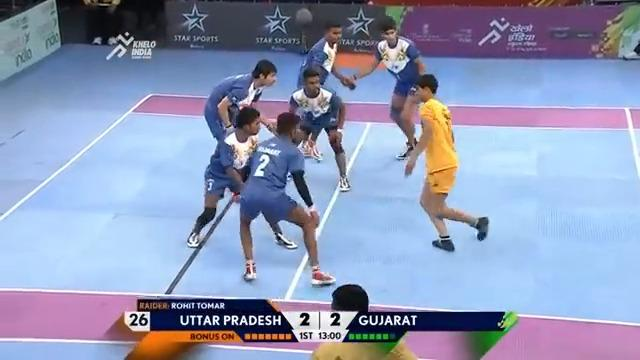Player: (237, 111, 336, 286), (186, 105, 298, 250), (345, 20, 426, 160), (294, 21, 354, 160), (287, 67, 352, 192), (203, 58, 277, 143), (296, 21, 354, 89)
Raider: (402, 72, 489, 251)
